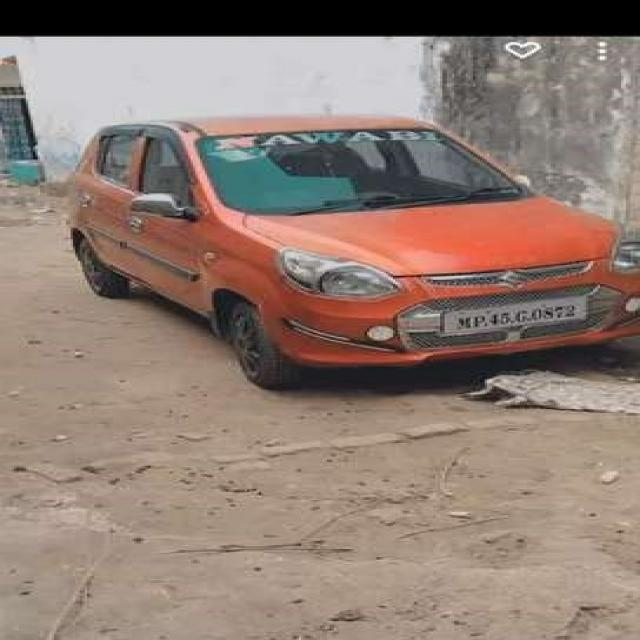Plate: (444, 293, 583, 337)
